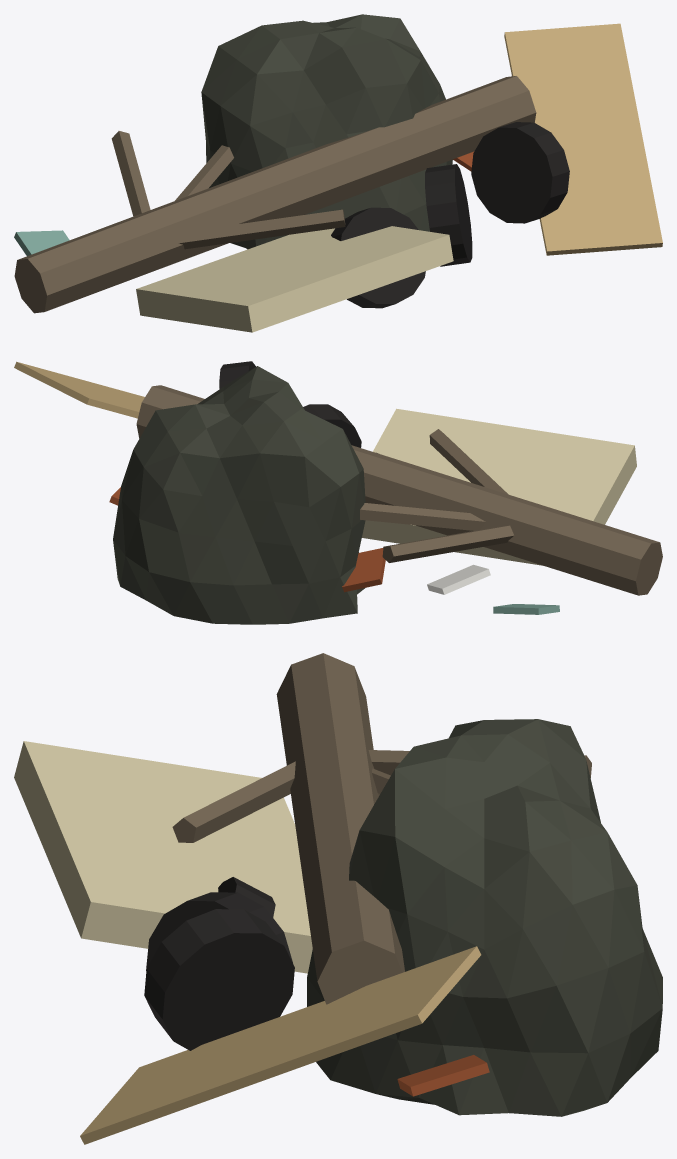
The model's file is wash_jam.glb.
3 renders of one model, top to bottom at view 1: azimuth 30°, elevation 25°; view 2: azimuth 150°, elevation 25°; view 3: azimuth 270°, elevation 25°, orthographic. The views are drawn at different scales.
Visible parts, largest first — view 1: wash_jam; view 2: wash_jam; view 3: wash_jam.
Part boxes in pixels (x1,y1,x2,y2): wash_jam: [14, 14, 662, 332]; wash_jam: [14, 361, 662, 624]; wash_jam: [14, 653, 662, 1144].
Size of the model in its own units: 5.23 by 1.64 by 3.19.
